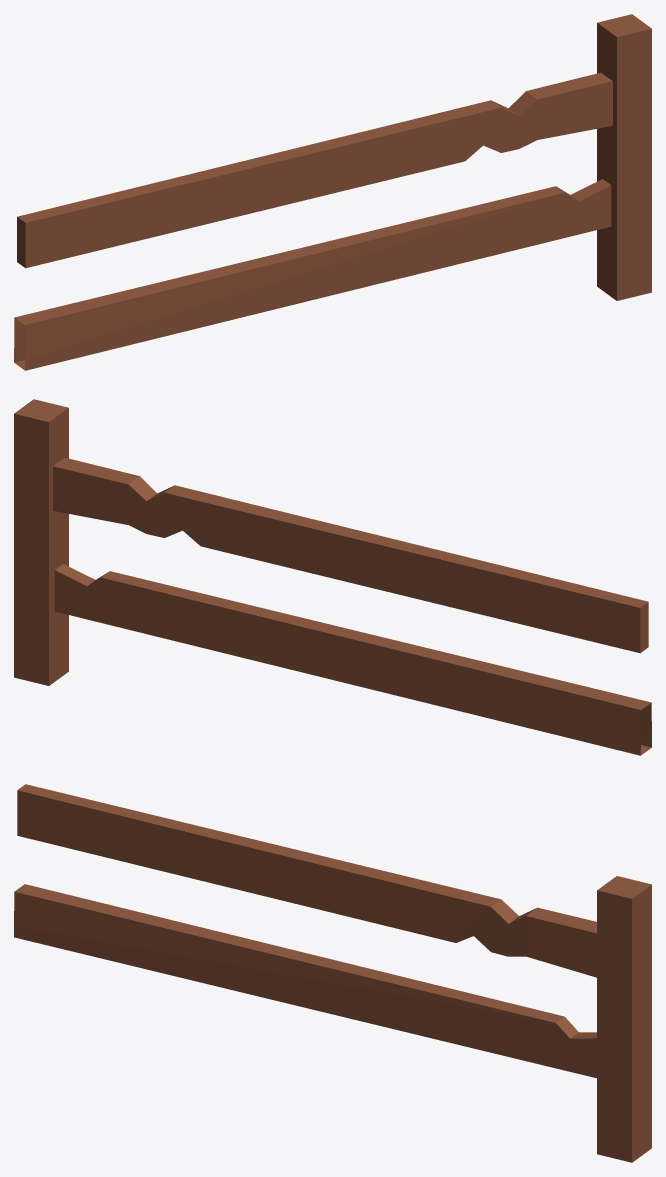
File: fence.2.close.L.glb
The picture shows the model from 3 angles, top to bottom: view 1: azimuth 30°, elevation 25°; view 2: azimuth 150°, elevation 25°; view 3: azimuth 330°, elevation 25°; orthographic projection.
Parts seen in each view (by area): view 1: fence.2.close.L; view 2: fence.2.close.L; view 3: fence.2.close.L.
Part boxes in pixels (box(x1,y1,x2,y2)): fence.2.close.L: box(14, 14, 651, 370); fence.2.close.L: box(14, 399, 651, 755); fence.2.close.L: box(14, 784, 651, 1162).
Size of the model in its own units: 3 by 1.21 by 0.1655.
